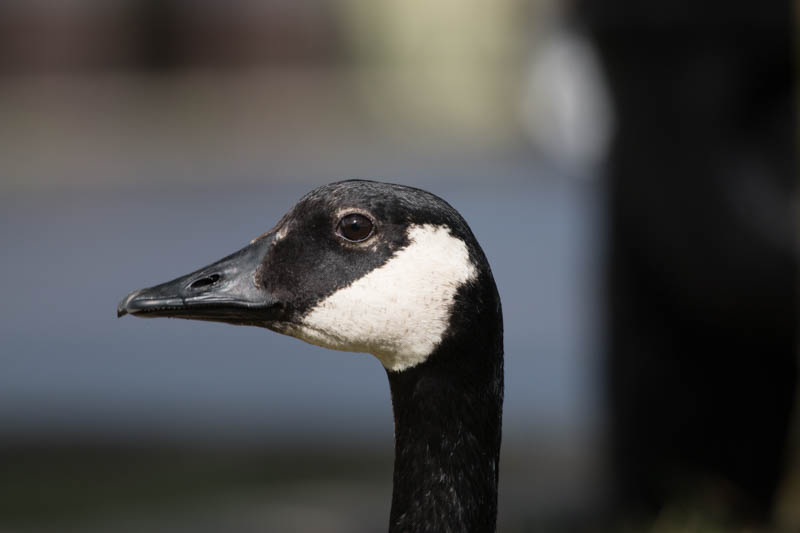goose-head: (115, 179, 504, 372)
